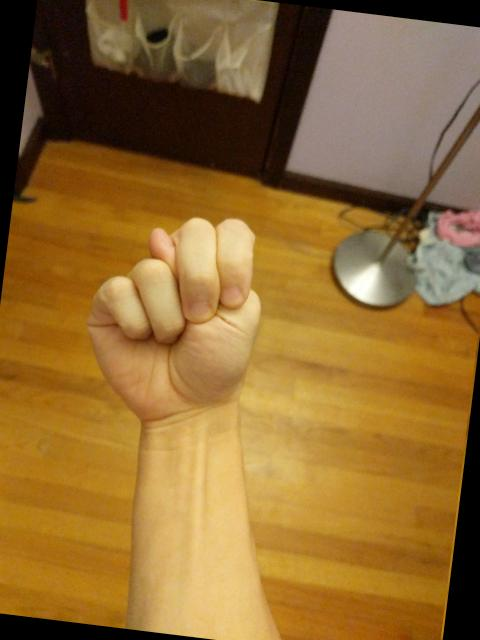N: (70, 198, 278, 438)
